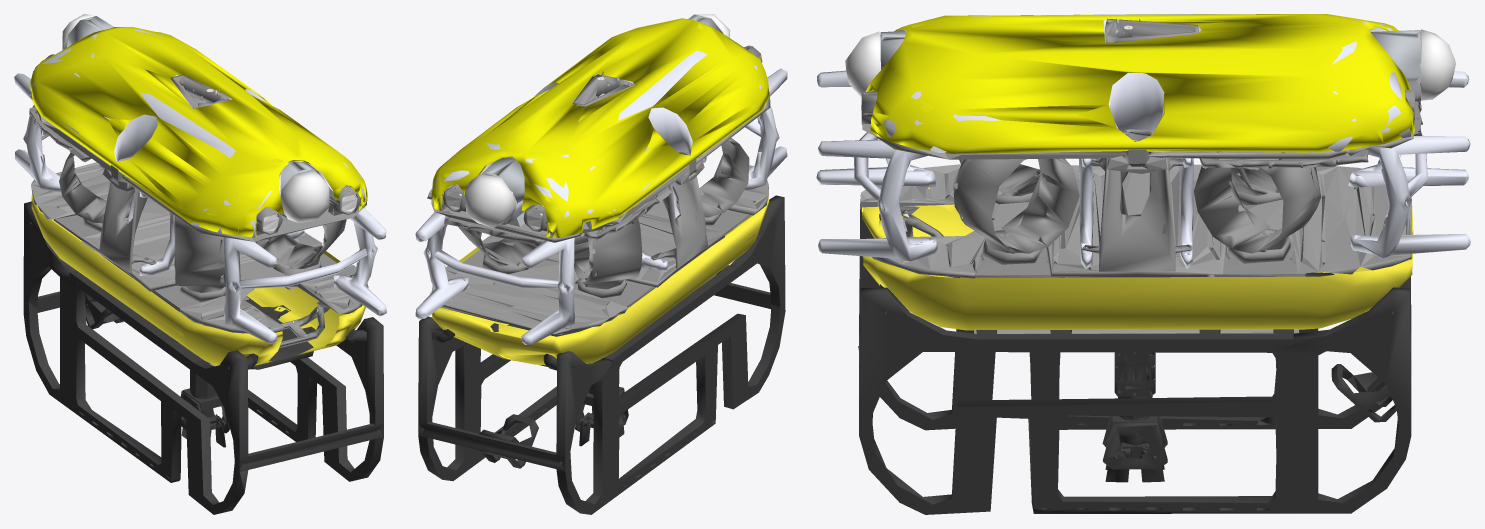
Rendered from colrov_complete.fbx.
The picture shows the model from 3 angles, left to right: view 1: azimuth 30°, elevation 25°; view 2: azimuth 150°, elevation 25°; view 3: azimuth 270°, elevation 25°; orthographic projection. The views are drawn at different scales.
Visible parts, largest first — view 1: colrov_vis_empty, black_skid_centered_x_0_1; view 2: colrov_vis_empty, black_skid_centered_x_0_1; view 3: colrov_vis_empty, black_skid_centered_x_0_1.
Part boxes in pixels (<box>): colrov_vis_empty: <box>14,14,386,366</box>; black_skid_centered_x_0_1: <box>23,201,383,514</box>; colrov_vis_empty: <box>415,14,787,365</box>; black_skid_centered_x_0_1: <box>418,195,785,514</box>; colrov_vis_empty: <box>816,14,1470,333</box>; black_skid_centered_x_0_1: <box>858,207,1411,514</box>.
Size of the model in its own units: 43.1 by 77.75 by 101.
